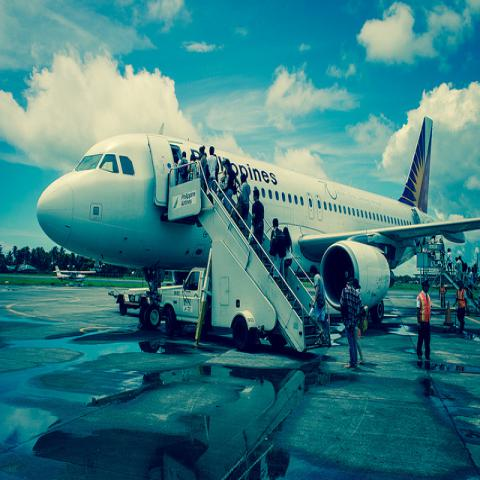truck: (158, 240, 287, 352)
